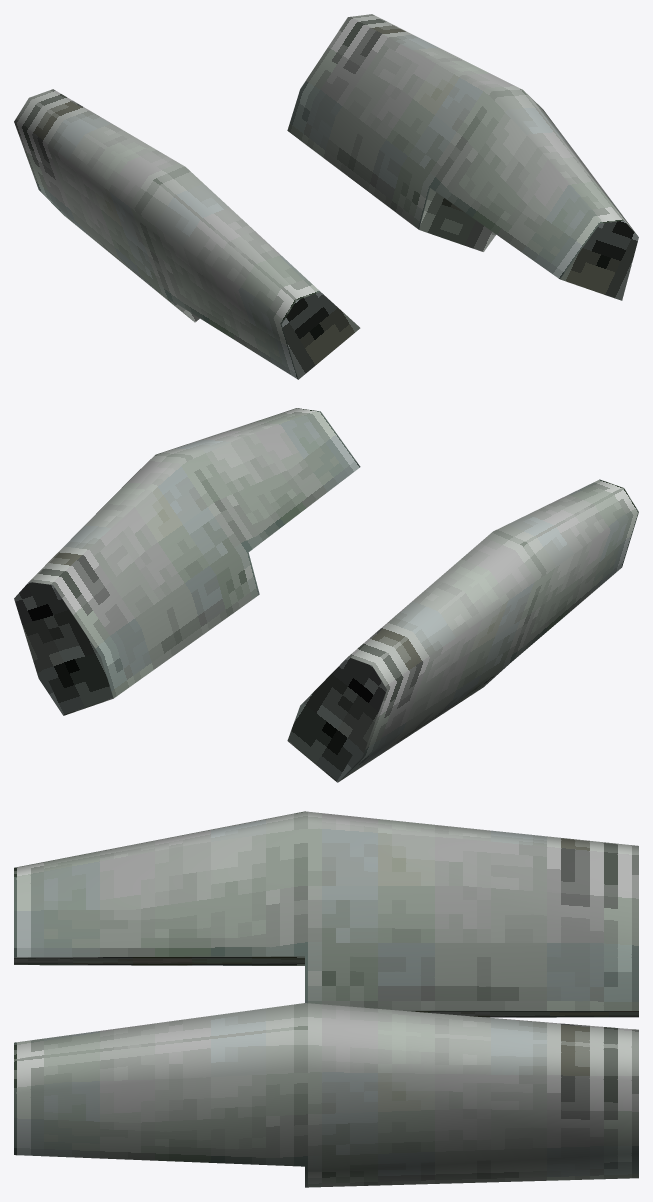
File: black_sun_fighter_light_booster_s02_l3.fbx
3 views of the same model, one above another, from view 1: azimuth 30°, elevation 25°; view 2: azimuth 150°, elevation 25°; view 3: azimuth 270°, elevation 25° (orthographic). The views are drawn at different scales.
Visible parts, largest first — view 1: mesh_node; view 2: mesh_node; view 3: mesh_node.
Boxes of the visible parts, <box> form: mesh_node: <box>14,14,638,379</box>; mesh_node: <box>14,408,638,782</box>; mesh_node: <box>14,811,638,1187</box>.
Size of the model in its own units: 5.36 by 1.98 by 5.91.
